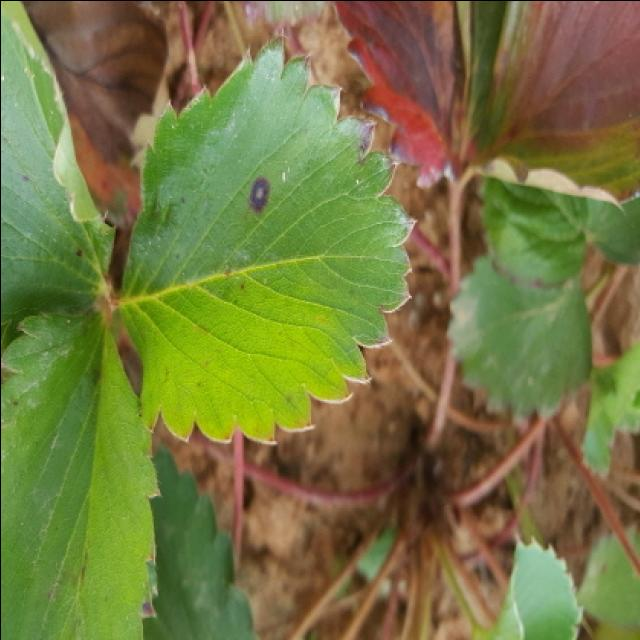Leaf Spot: (114, 32, 419, 447), (2, 298, 160, 640), (2, 2, 114, 353)
